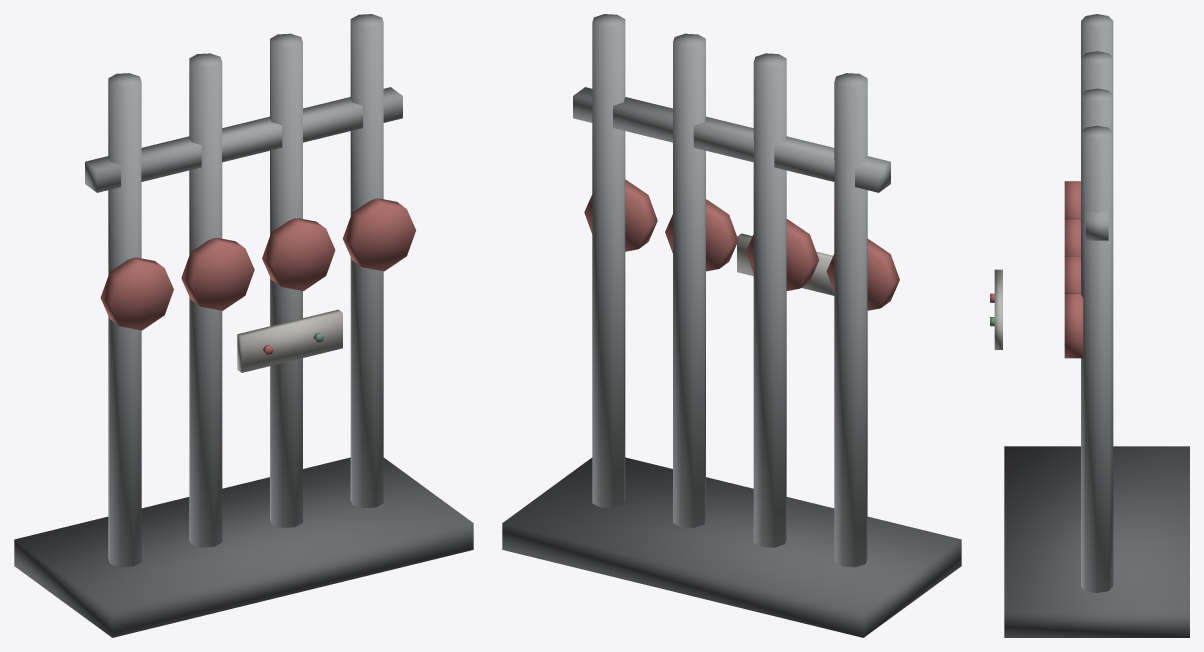
The model's file is steam_manifold.glb.
3 views of the same model, side by side, from view 1: azimuth 30°, elevation 25°; view 2: azimuth 150°, elevation 25°; view 3: azimuth 270°, elevation 25° (orthographic). The views are drawn at different scales.
Parts seen in each view (by area): view 1: world; view 2: world; view 3: world.
Boxes of the visible parts, bbox=[...] form: world: bbox=[14, 14, 473, 637]; world: bbox=[502, 14, 961, 637]; world: bbox=[990, 14, 1189, 637].
Bounding box in the file's own units: 0.85 × 1.14 × 0.431.
